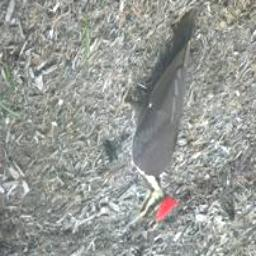Woodpecker: (117, 10, 204, 234)
